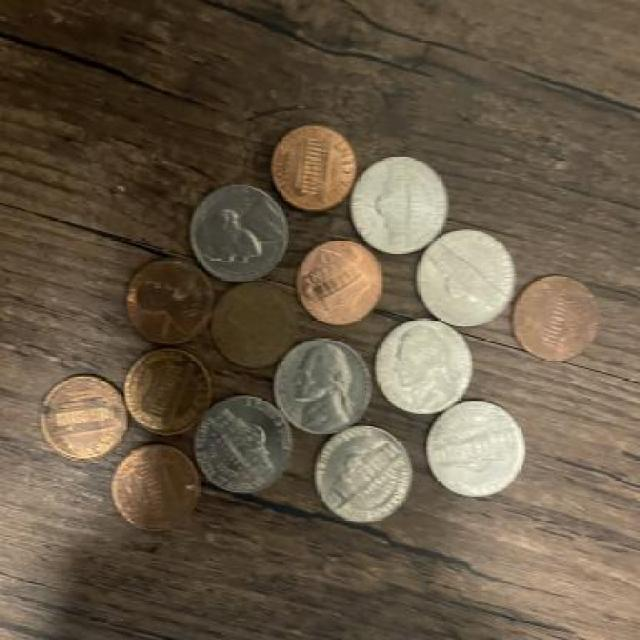Nickel: (189, 178, 289, 284), (423, 397, 529, 497), (374, 316, 476, 418), (417, 228, 515, 330), (274, 336, 374, 434), (349, 156, 449, 252), (195, 397, 292, 495), (314, 424, 412, 518), (509, 272, 603, 363)
Penny: (110, 442, 204, 532), (209, 280, 300, 372), (122, 350, 215, 436), (297, 236, 385, 326), (125, 262, 217, 344), (39, 374, 124, 457), (272, 124, 358, 204)
